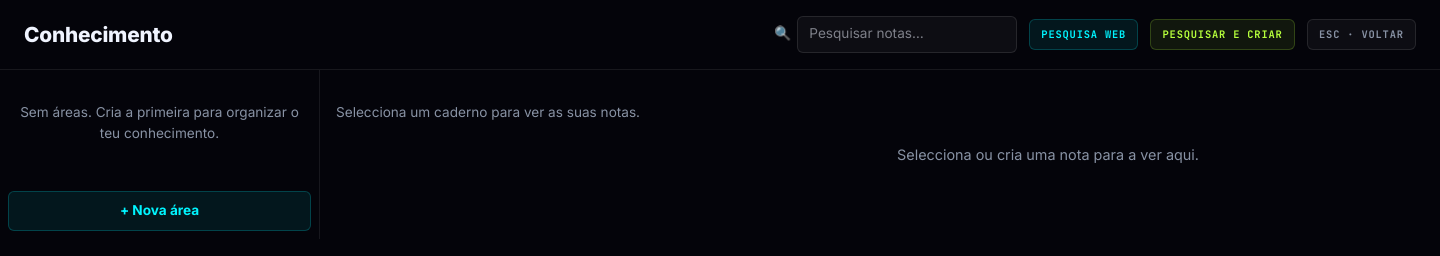
it: KnowledgePage — abort da pesquisa web ao desligar o modo (Story 5.11 / CR Major) › ligar o modo web não aborta indevidamente nem corre em loop (caso negativo)
This screenshot has width=1440, height=256.
# Liga o modo web sem submeter qualquer pesquisa: nenhum AbortController criado.
Click the button with aria-label "Alternar pesquisa web": point(1084, 34) [1029, 18, 1138, 50]
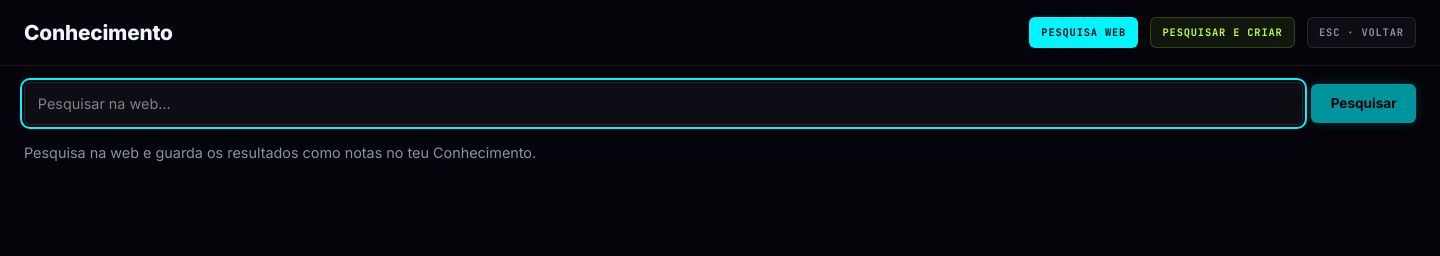
Result: the search field labelled "Pesquisar na web" is shown at [24, 82, 1304, 125]
